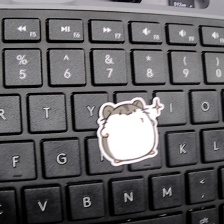mouse: (96, 94, 165, 167)
